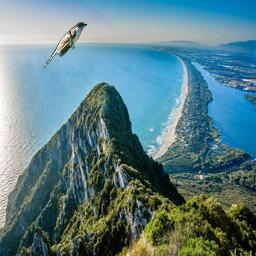Cuckoo: (43, 22, 87, 69)
